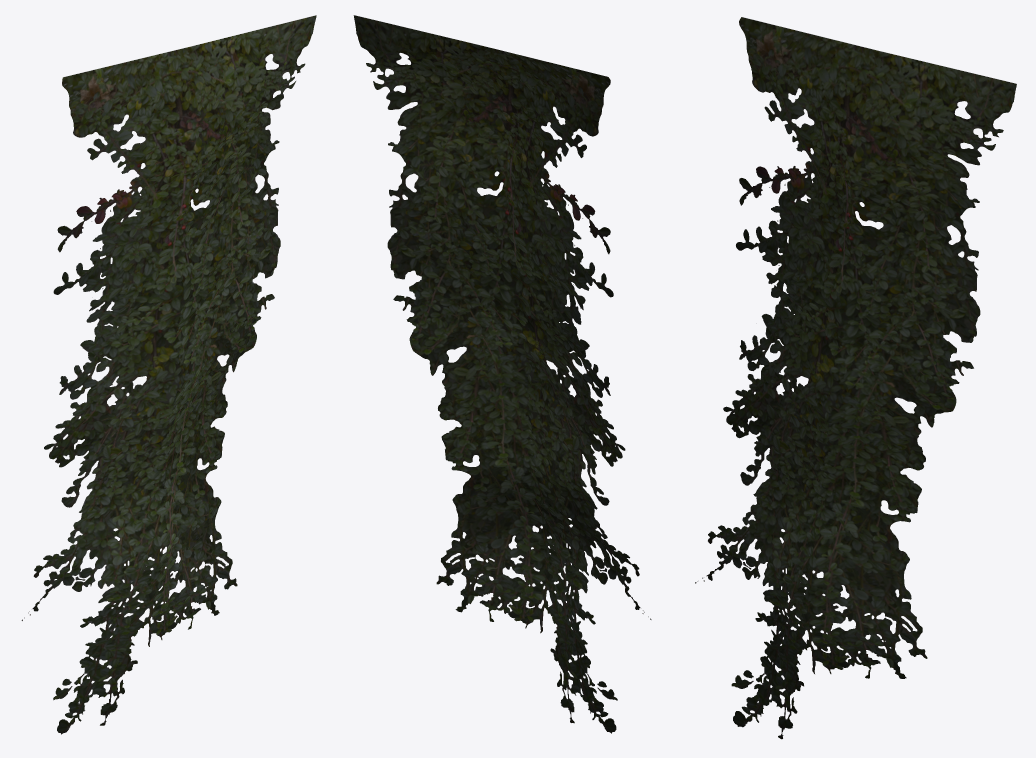
Rendered from Vine_01.fbx.
The picture shows the model from 3 angles, left to right: view 1: azimuth 30°, elevation 25°; view 2: azimuth 150°, elevation 25°; view 3: azimuth 330°, elevation 25°; orthographic projection. The views are drawn at different scales.
Visible parts, largest first — view 1: Vine; view 2: Vine; view 3: Vine.
Part boxes in pixels (<box>): Vine: <box>21,15,316,734</box>; Vine: <box>353,15,651,733</box>; Vine: <box>695,17,1016,739</box>.
Size of the model in its own units: 77.28 by 159 by 8.22.
